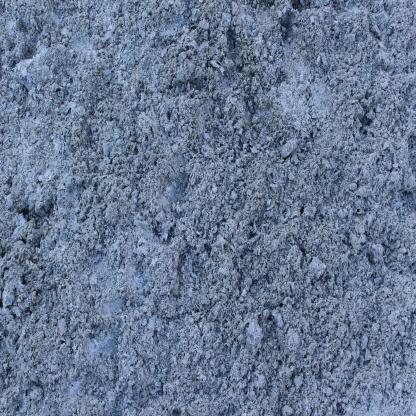stone: (16, 54, 50, 93)
